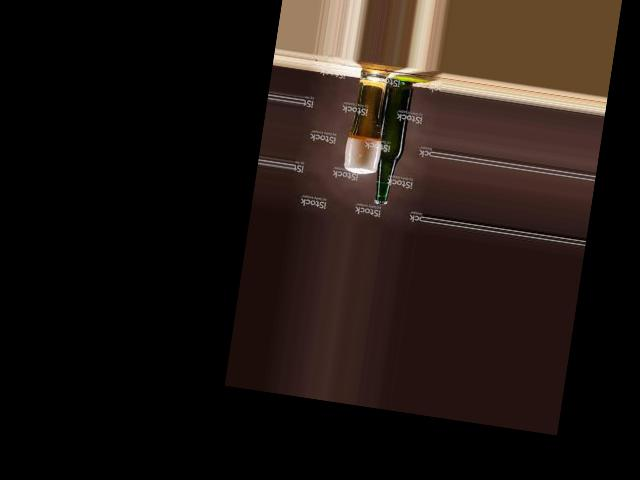beer: (367, 77, 414, 206)
